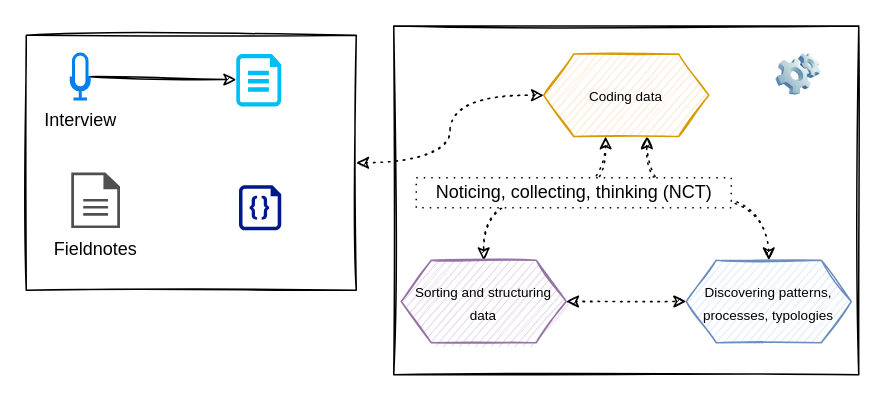
The diagram is 885 pixels wide and 402 high, and some of its shapes have lost their labels. The shapes that lost their labels are listed below. From the top down, each one's centre as x and y in pixels, then its label:
At point 258,79: "Transcribed interview".
At point 798,74: "Qualitative data analysis software".
At point 259,207: "Technical and other documents".
